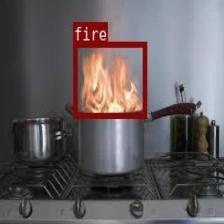fire: (73, 41, 146, 117)
